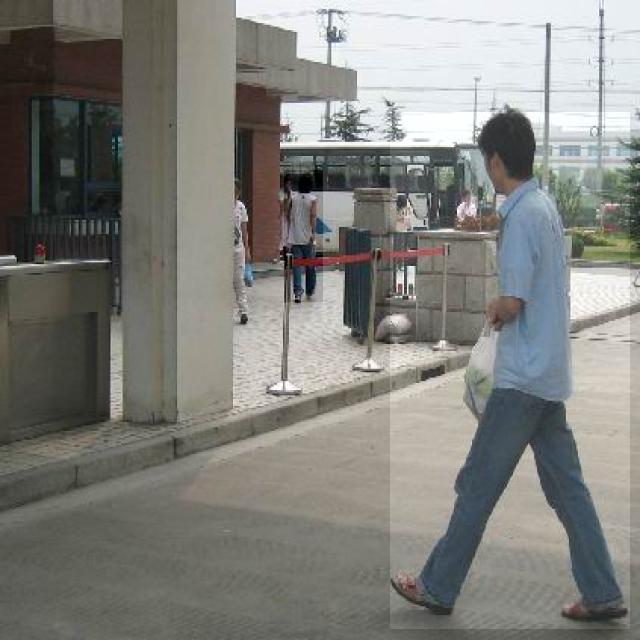with scooter: (390, 112, 630, 629), (284, 170, 323, 302)
